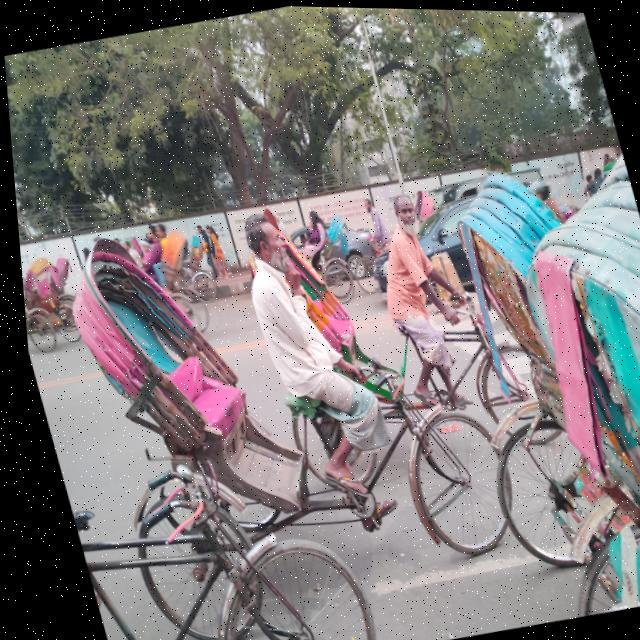rikshaw: (11, 174, 516, 640), (226, 149, 523, 462)
